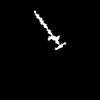double_crochet: (34, 11, 65, 49)
